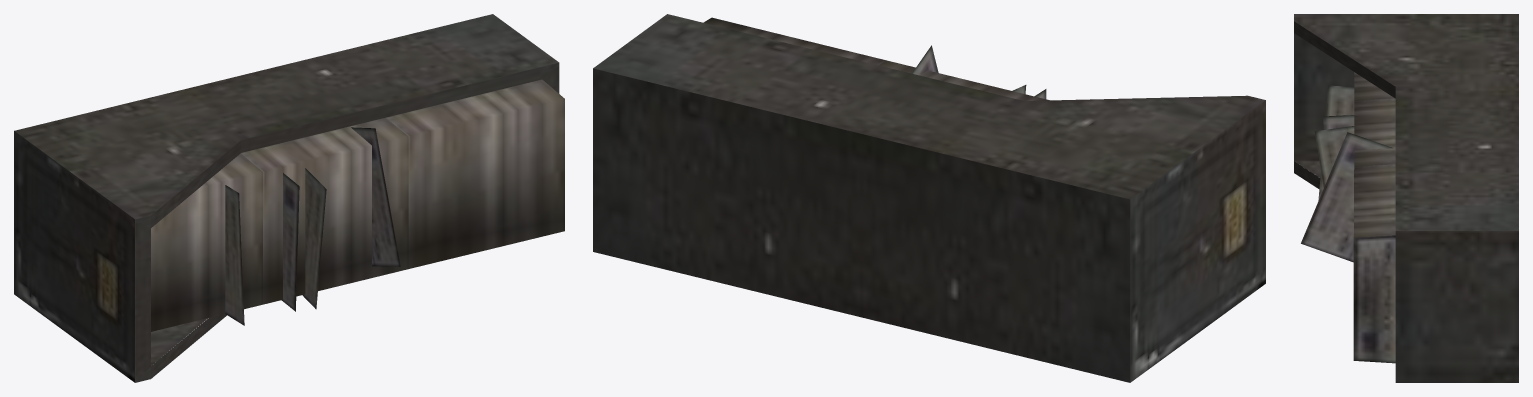
Rendered from furniture_file_cabinet_drawer.glb.
The picture shows the model from 3 angles, left to right: view 1: azimuth 30°, elevation 25°; view 2: azimuth 150°, elevation 25°; view 3: azimuth 270°, elevation 25°; orthographic projection. The views are drawn at different scales.
Size of the model in its own units: 26.51 by 8.88 by 11.6.
Materials: 1 (1 with a texture image).
